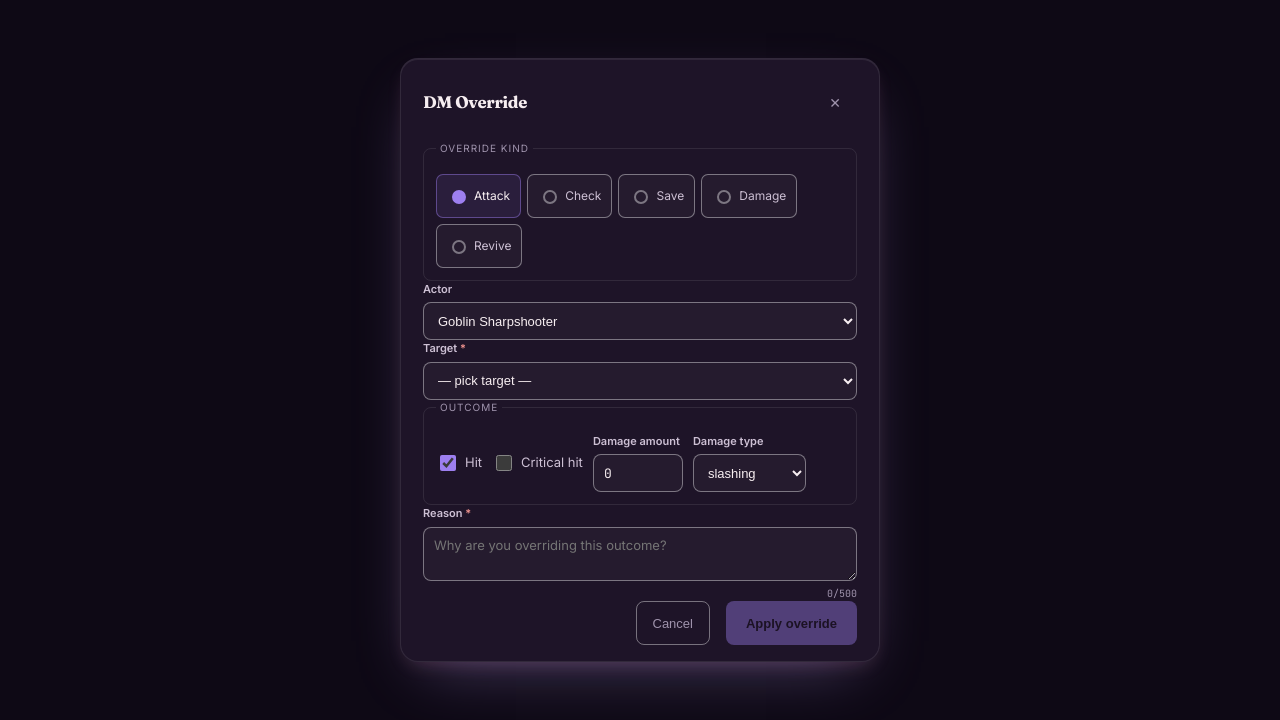
Test: S5.4-AC11 — DmOverrideModal: reason required, submit blocked when empty › submit button enables when reason is filled
In the text box labelled "Reason *": [640, 554] box [423,527,857,581], type "Narrative beat"
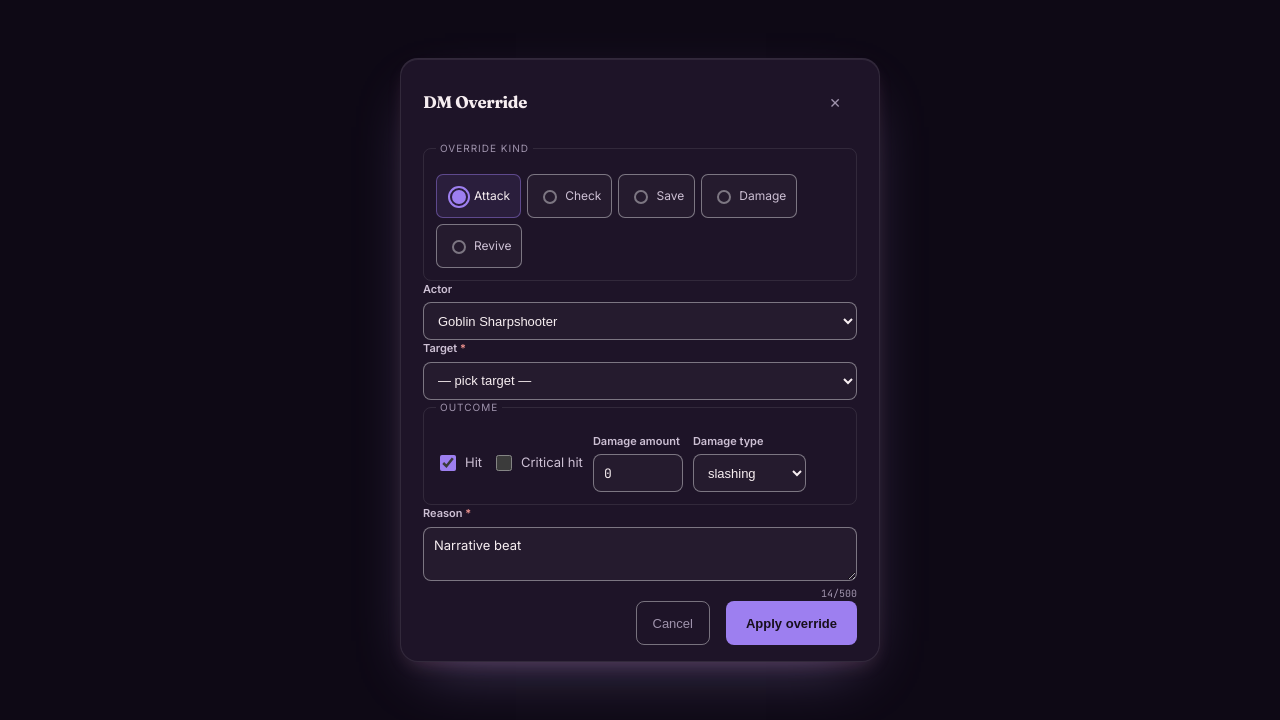
expect the button "Apply override" is enabled: met, box [726,601,857,645]
